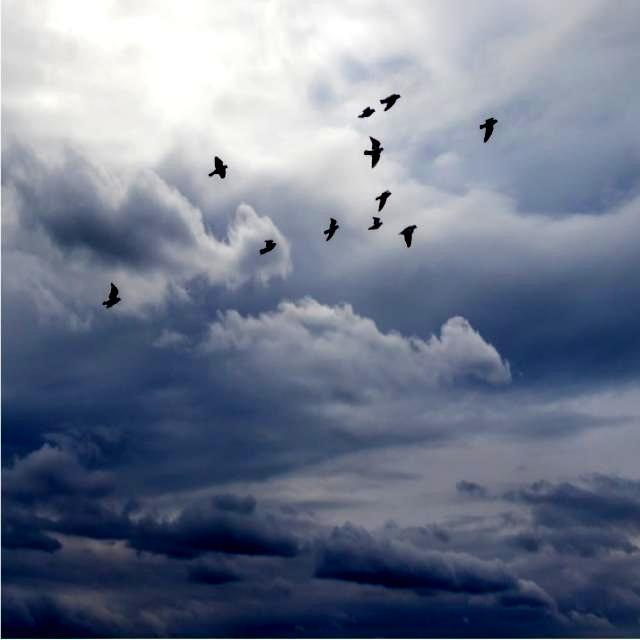bird: (356, 129, 394, 173), (377, 84, 415, 116), (250, 232, 283, 267), (203, 154, 238, 186), (394, 216, 422, 248), (100, 283, 124, 319), (318, 213, 344, 243), (476, 112, 499, 144), (374, 184, 396, 214), (355, 101, 375, 128), (362, 216, 386, 237)
